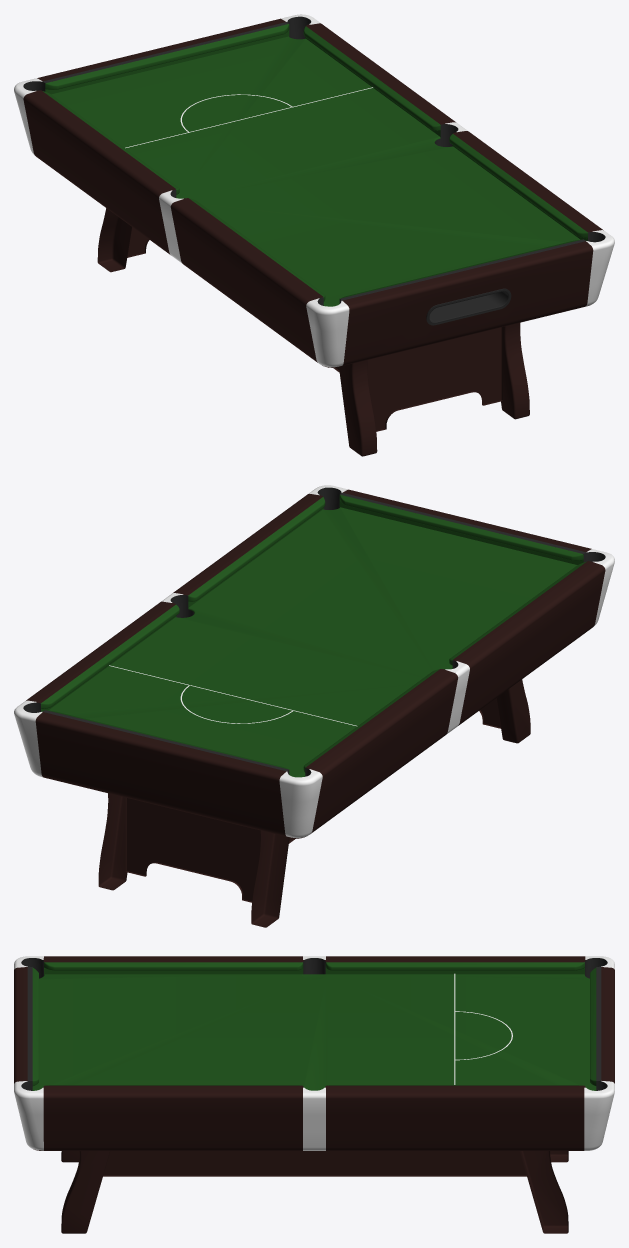
The model's file is Billard_Table_Indented.fbx.
The picture shows the model from 3 angles, top to bottom: view 1: azimuth 30°, elevation 25°; view 2: azimuth 150°, elevation 25°; view 3: azimuth 270°, elevation 25°; orthographic projection. The views are drawn at different scales.
Visible parts, largest first — view 1: Billard_Table_Joined; view 2: Billard_Table_Joined; view 3: Billard_Table_Joined.
Part boxes in pixels (x1,y1,x2,y2): Billard_Table_Joined: [14, 14, 614, 456]; Billard_Table_Joined: [14, 485, 614, 927]; Billard_Table_Joined: [14, 956, 614, 1233].
Bounding box in the file's own units: 117 × 66.78 × 212.
